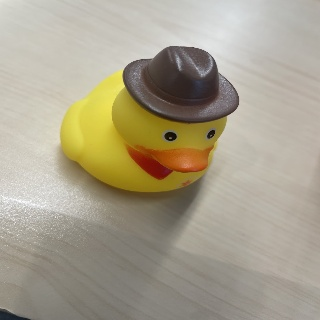duck_specialty: (60, 46, 238, 192)
